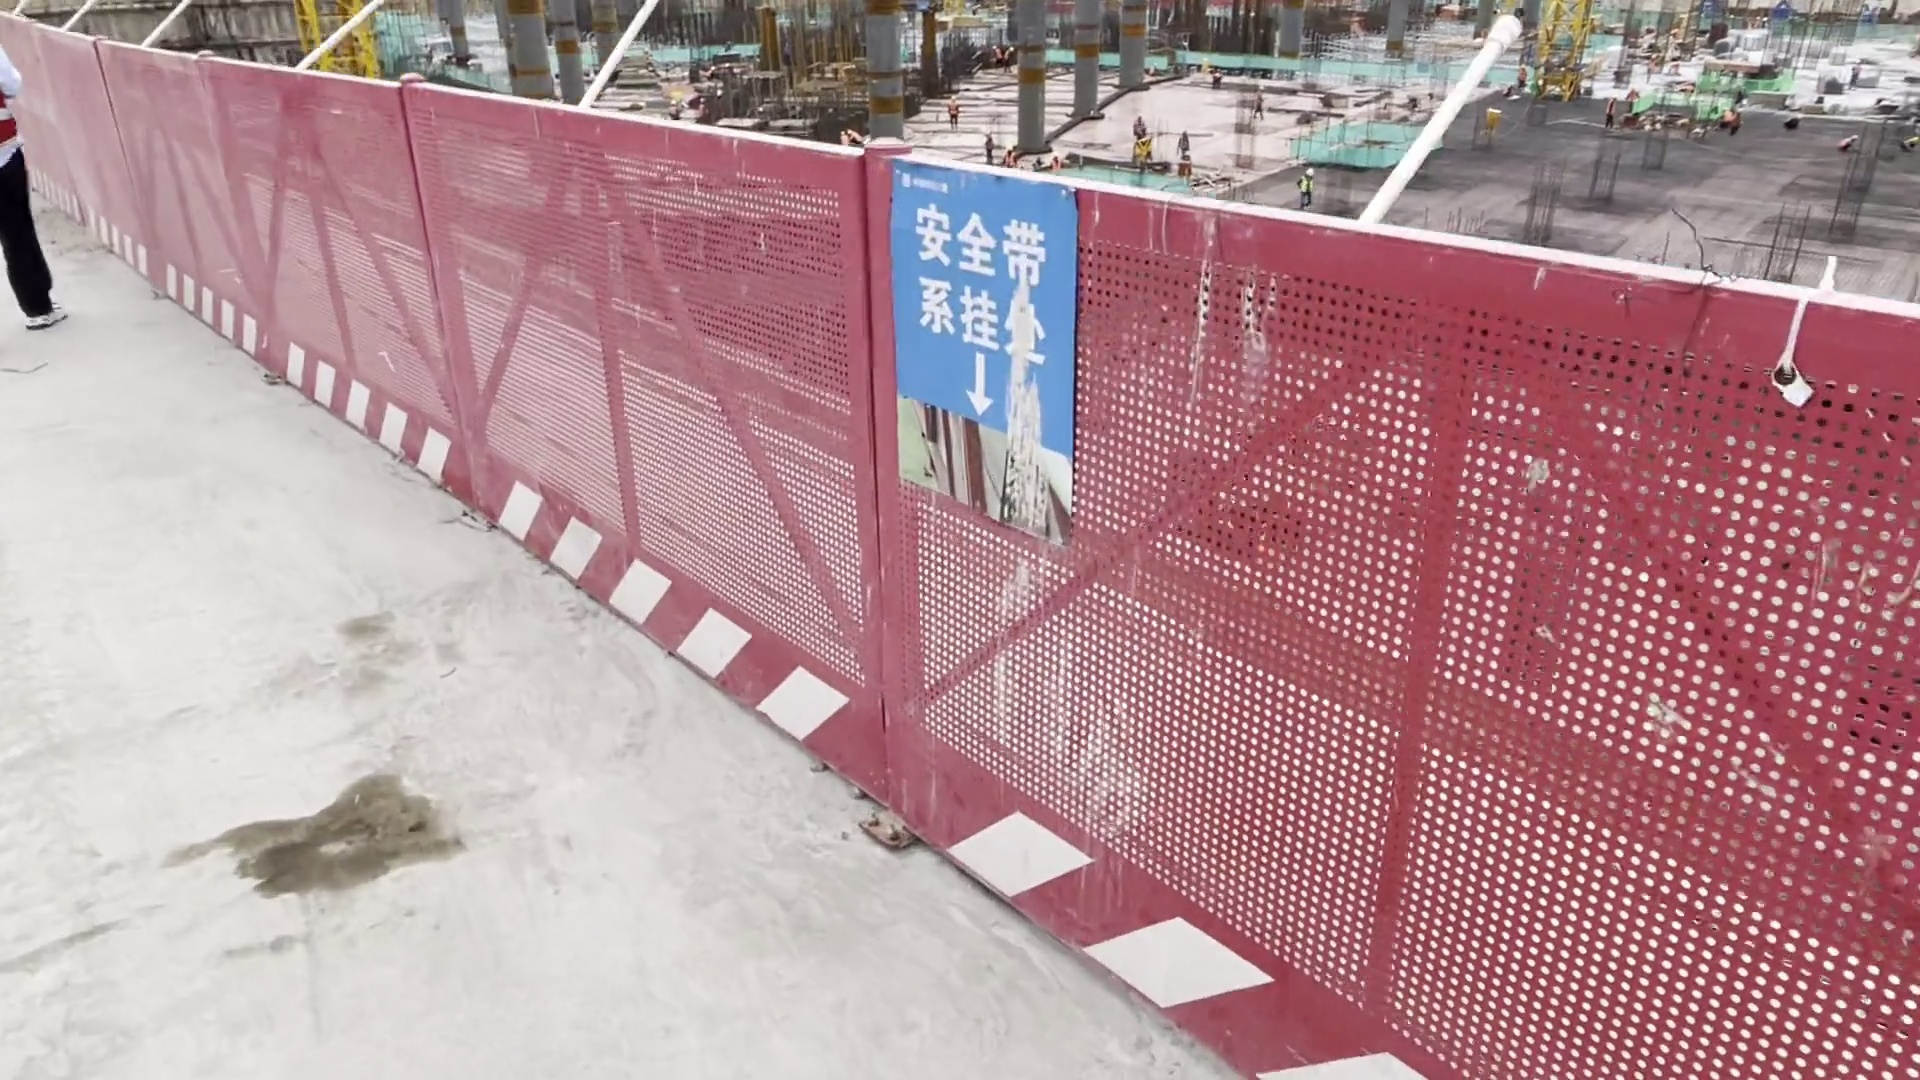fence: (900, 157, 1915, 1080), (387, 78, 878, 808), (196, 52, 479, 518), (101, 50, 271, 376), (27, 9, 152, 283)
person: (1, 11, 87, 339)
slogan: (889, 187, 1053, 378)
vest: (1, 88, 44, 155)
